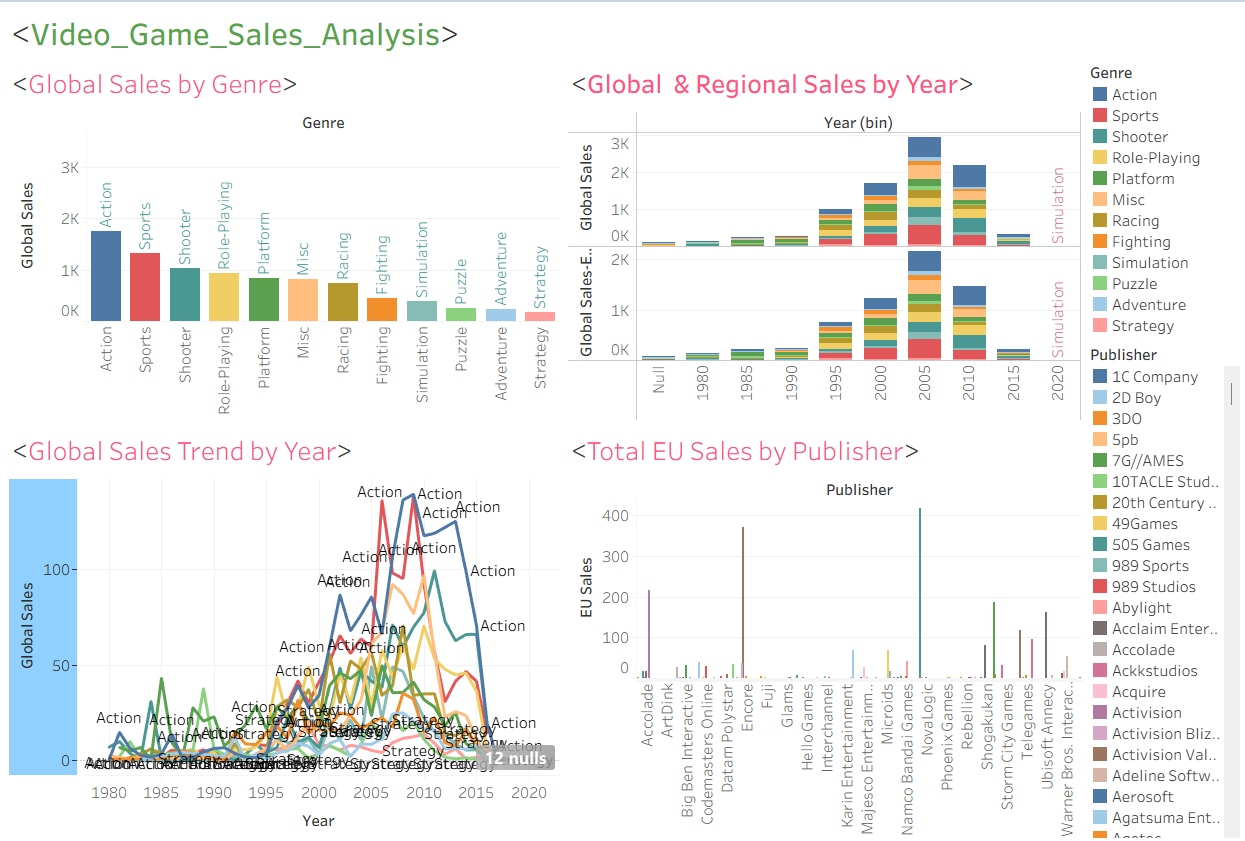

The page's visual inventory and layout, read from the dashboard file:
{"tool":"tableau","page":{"name":"Dashboard 1","canvas":[1000,1000],"units":"permille","ordinal":0},"visuals":[{"type":"title","box":[6.4,9.4,987.3,58.8]},{"type":"worksheet","title":"Sheet 2","mark":"Automatic","rows":["Global_Sales"],"cols":["Genre"],"box":[6.4,68.2,444.7,431.8]},{"type":"worksheet","title":"Sheet 3","mark":"Automatic","rows":["Global_Sales","Calculation_0929677078179840"],"cols":["Year (bin)"],"box":[451.1,68.2,415.3,431.8]},{"type":"legend","title":"Sheet 2","param":"[federated.17v0vcf1e0lffa19qrvkn04z8nth].[none:Genre:nk]","box":[866.4,68.2,127.3,331.8]},{"type":"legend","title":"Sheet 4","param":"[federated.17v0vcf1e0lffa19qrvkn04z8nth].[none:Publisher:nk]","box":[866.4,400,127.3,590.6]},{"type":"worksheet","title":"Sheet 1","mark":"Automatic","rows":["Global_Sales"],"cols":["Year"],"box":[6.4,500,444.7,490.6]},{"type":"worksheet","title":"Sheet 4","mark":"Automatic","rows":["EU_Sales"],"cols":["Publisher"],"box":[451.1,500,415.3,490.6]}]}

Visuals, with their boxes on the dashboard's canvas, which has no fixed pixel size, in thousandths of its width and height (x1, y1, x2, y2). These are canvas units, not pixel positions in the 1245x841 screenshot, which may show the page scaled, cropped or inside an application window:
title: 6/9/994/68
"Sheet 2" worksheet: 6/68/451/500
"Sheet 3" worksheet: 451/68/866/500
"Sheet 2" legend: 866/68/994/400
"Sheet 4" legend: 866/400/994/991
"Sheet 1" worksheet: 6/500/451/991
"Sheet 4" worksheet: 451/500/866/991
